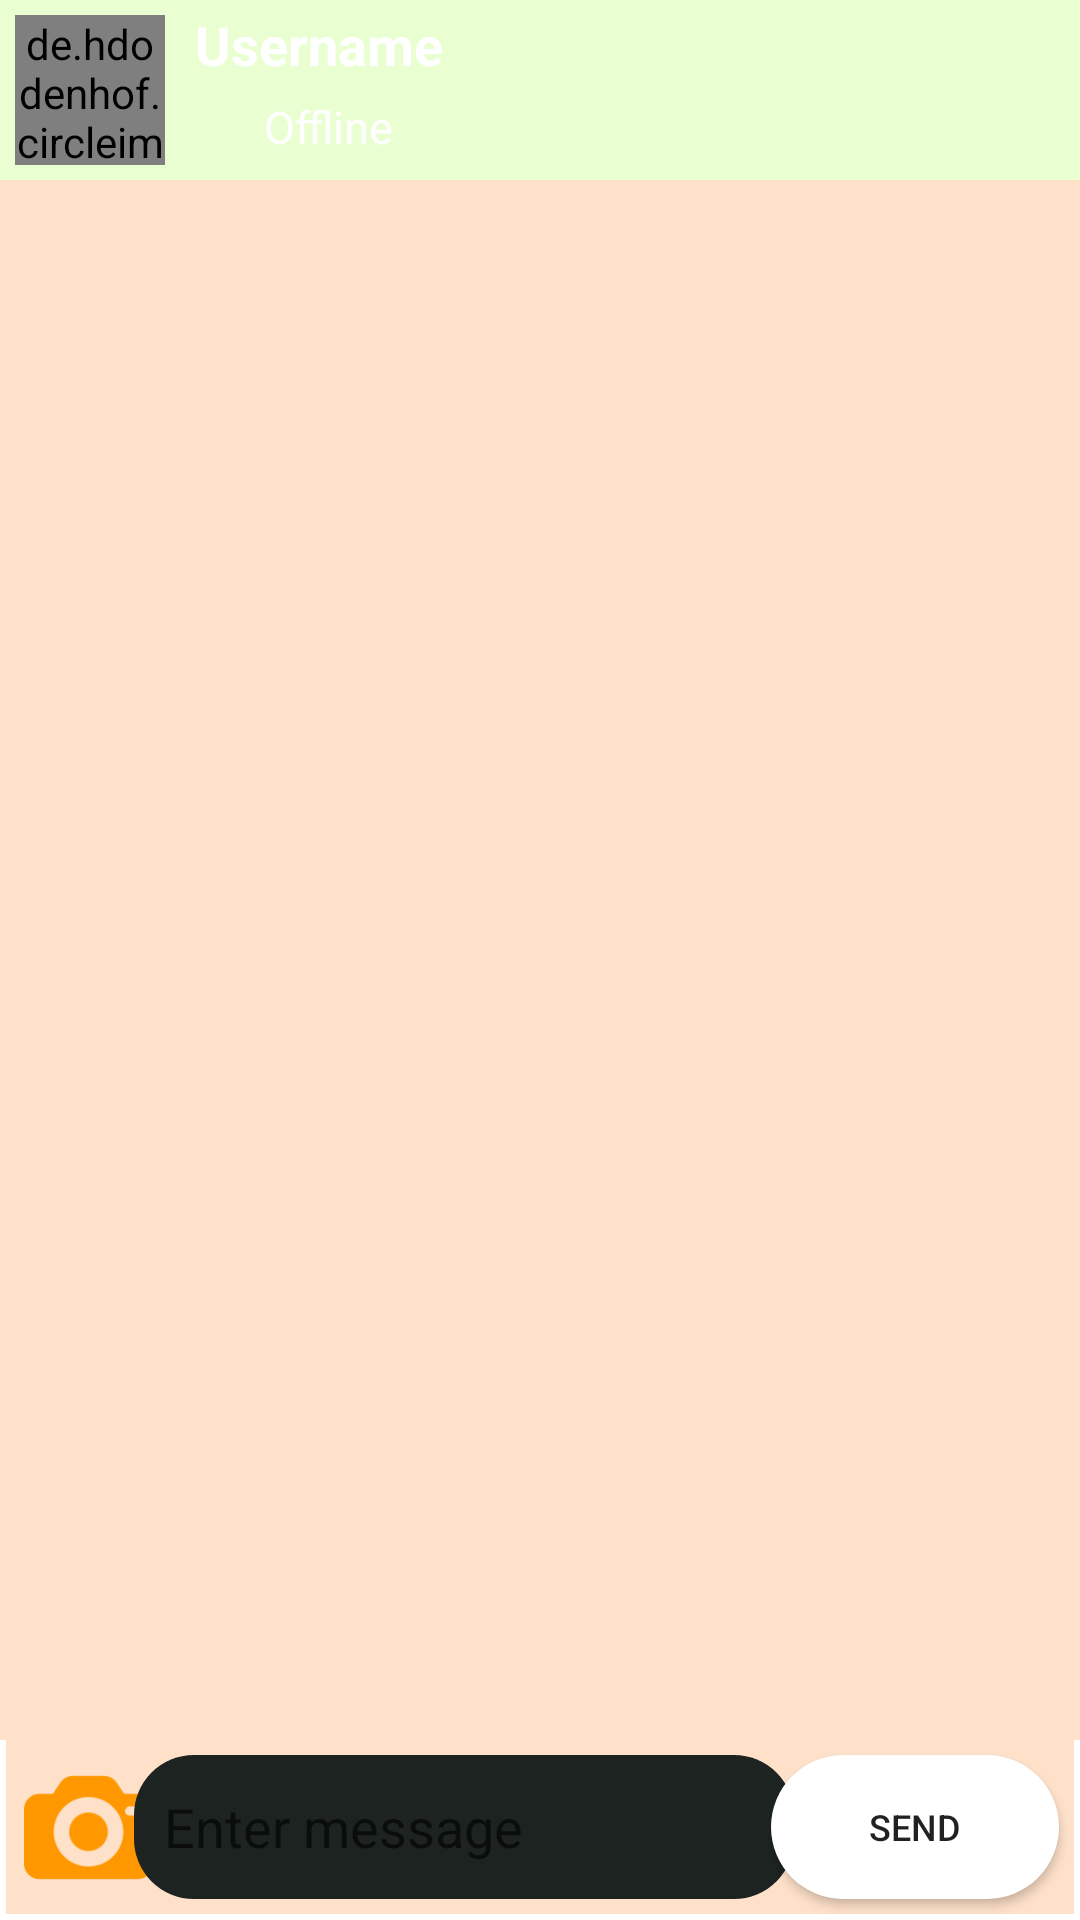

Icons on this 1080 x 1920 Android screen, each with the point to tap as (x,y):
camerapic: (90,1827)
